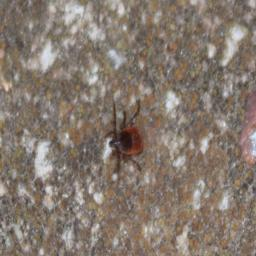Ixodes scapularis: (106, 105, 145, 174)
